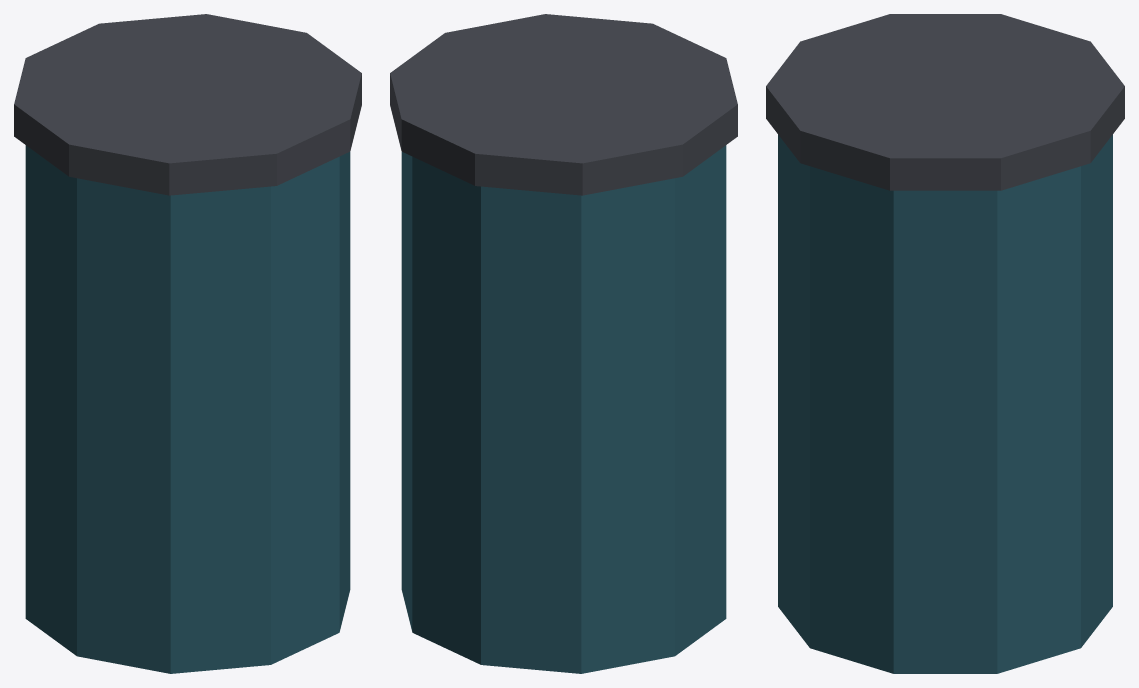
The model's file is SM_TrashBin.fbx.
3 renders of one model, left to right at view 1: azimuth 30°, elevation 25°; view 2: azimuth 150°, elevation 25°; view 3: azimuth 270°, elevation 25°, orthographic.
Visible parts, largest first — view 1: SM_TrashBin; view 2: SM_TrashBin; view 3: SM_TrashBin.
Boxes of the visible parts, x1,y1,x2,y2 form: SM_TrashBin: (14, 14, 361, 673); SM_TrashBin: (390, 14, 737, 673); SM_TrashBin: (766, 14, 1124, 673).
Size of the model in its own units: 57.06 by 96 by 60.
